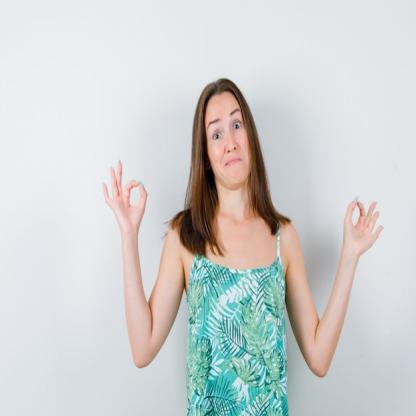ok: (99, 156, 149, 240), (342, 190, 384, 262)
